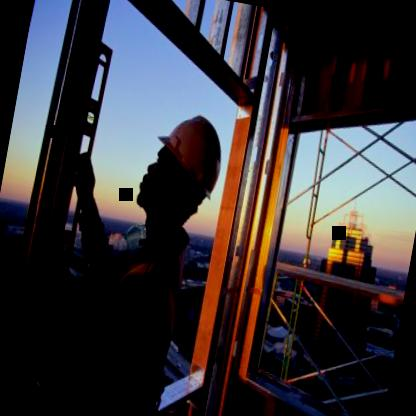helmet: (130, 89, 240, 254)
